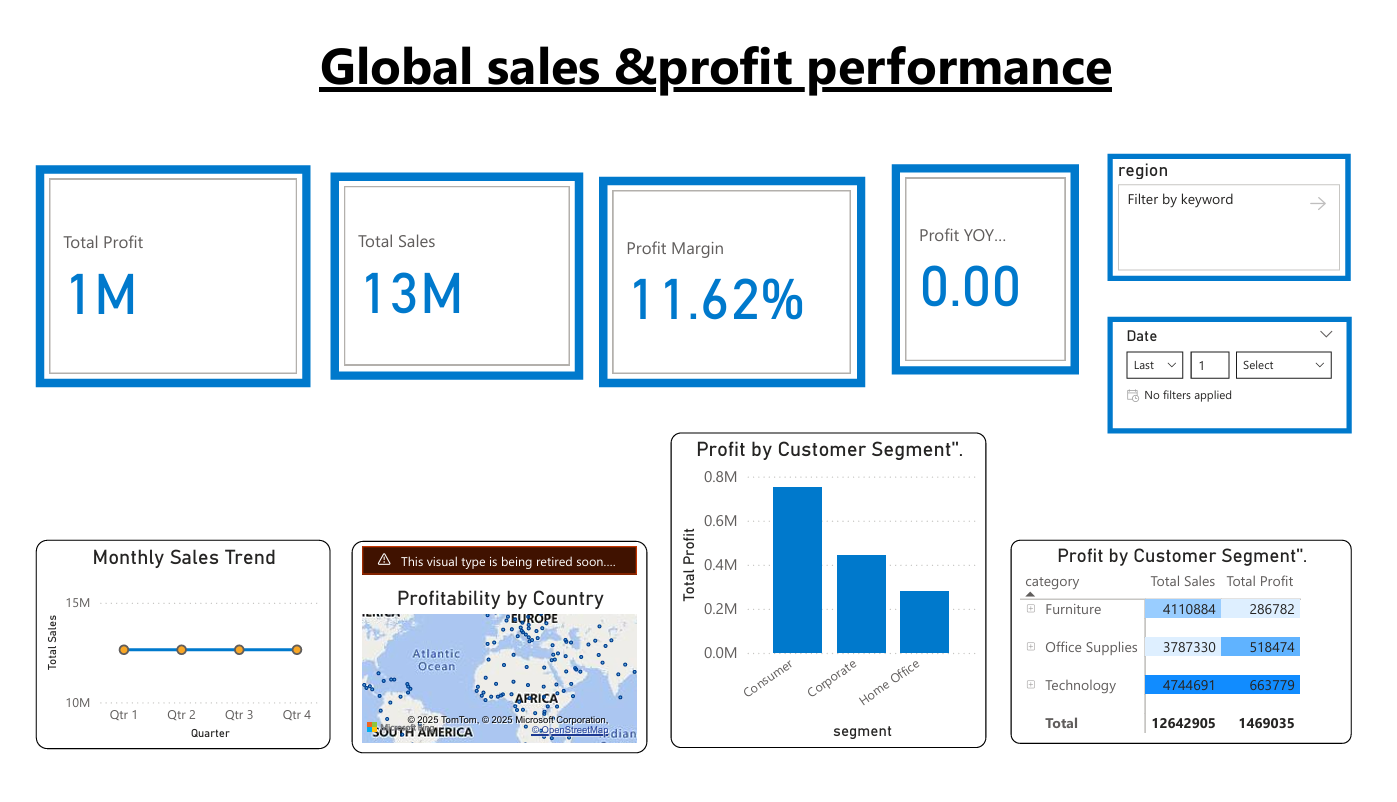

What the dashboard file says about the page in this screenshot:
{"tool":"powerbi","page":{"name":"Page 1","canvas":[1280,720],"ordinal":0},"visuals":[{"type":"textbox","box":[9.6,0,1270.7,289.5],"z":0},{"type":"cardVisual","fields":{"Data":["SuperStoreOrders.Total Sales"]},"box":[290,141.2,240,196.2],"z":1000},{"type":"cardVisual","fields":{"Data":["SuperStoreOrders.Total Profit"]},"box":[10,133.8,261.2,211.2],"z":2000},{"type":"cardVisual","fields":{"Data":["SuperStoreOrders.Profit Margin"]},"box":[545,145,252.5,200],"z":3000},{"type":"cardVisual","fields":{"Data":["Profit YOY Growth.Profit YOY Growth:Code snippetProfit YOY Growth"]},"box":[822.5,132.5,178.8,200],"z":4000},{"type":"slicer","fields":{"Values":["Date Table.Date"]},"box":[1027.5,277.5,232.5,111.2],"z":5000},{"type":"textSlicer","fields":{"Values":["SuperStoreOrders.region"]},"box":[1027.5,122.5,231.2,121.2],"z":6000},{"type":"lineChart","title":"Monthly Sales Trend","fields":{"Category":["Date Table.Date.Variation.Date Hierarchy.Quarter","Date Table.Date.Variation.Date Hierarchy.Month","Date Table.Date.Variation.Date Hierarchy.Day"],"Y":["SuperStoreOrders.Total Sales"]},"box":[10,490,280,198.8],"z":7000},{"type":"map","title":"Profitability by Country","fields":{"Category":["SuperStoreOrders.country"]},"box":[310,491.2,281.2,201.2],"z":8000},{"type":"clusteredColumnChart","title":"Profit by Customer Segment\".","fields":{"Category":["SuperStoreOrders.segment"],"Y":["SuperStoreOrders.Total Profit"]},"box":[612.5,387.5,300,300],"z":8001},{"type":"pivotTable","title":"Profit by Customer Segment\".","fields":{"Rows":["SuperStoreOrders.category","SuperStoreOrders.sub_category"],"Values":["SuperStoreOrders.Total Sales","SuperStoreOrders.Total Profit"]},"box":[936.2,490,323.8,193.8],"z":8002}]}

Visuals, with their boxes in screenshot pixels (x1, y1, x2, y2), scaled from the page's 1280x720 canvas onto the 1397x802 screenshot:
textbox: 10,0,1396,322
cardVisual - SuperStoreOrders.Total Sales: 317,157,578,376
cardVisual - SuperStoreOrders.Total Profit: 11,149,296,384
cardVisual - SuperStoreOrders.Profit Margin: 595,162,870,384
cardVisual - Profit YOY Growth.Profit YOY Growth:Code snippetProfit YOY Growth: 898,148,1093,370
slicer - Date Table.Date: 1121,309,1375,433
textSlicer - SuperStoreOrders.region: 1121,136,1374,271
"Monthly Sales Trend" lineChart: 11,546,317,767
"Profitability by Country" map: 338,547,645,771
"Profit by Customer Segment"." clusteredColumnChart: 668,432,996,766
"Profit by Customer Segment"." pivotTable: 1022,546,1375,762
